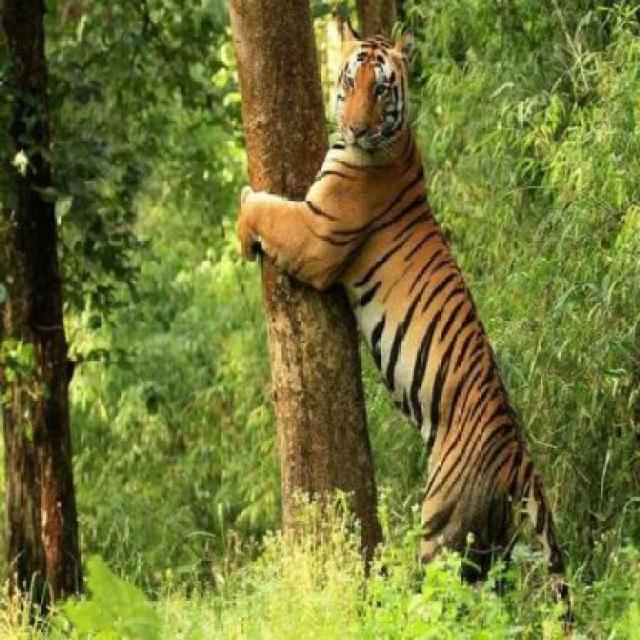tiger: (235, 12, 574, 621)
